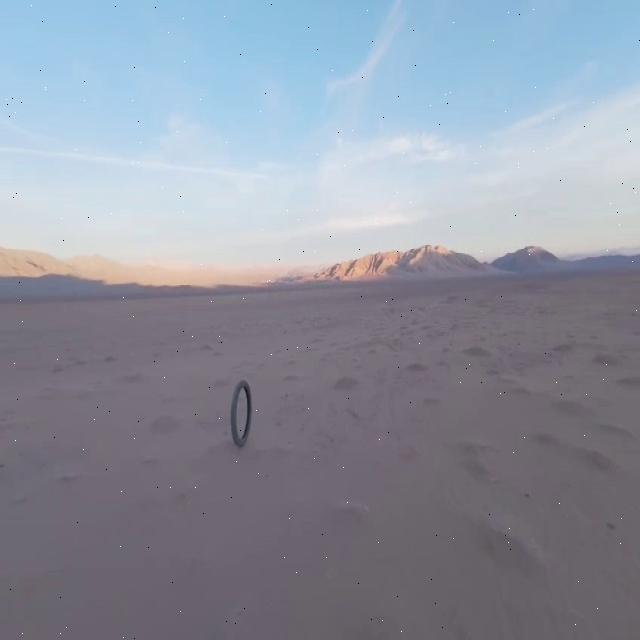Tire: (231, 380, 251, 446)
